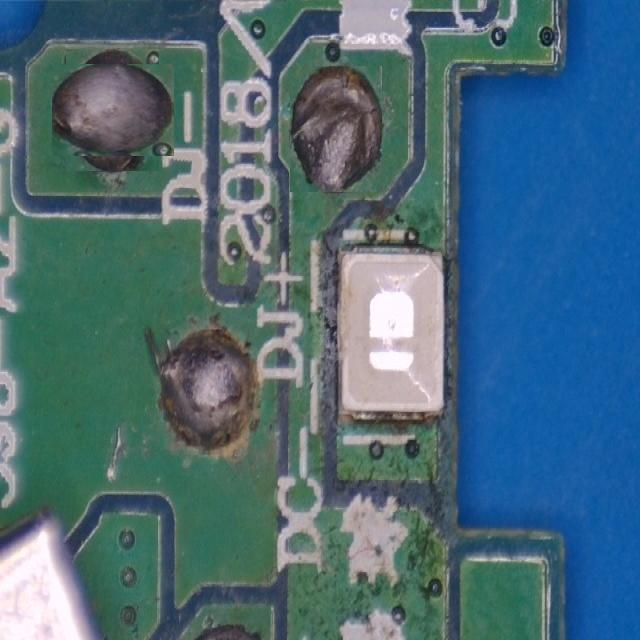Dry_joint: (291, 67, 382, 192), (163, 329, 254, 452), (52, 64, 173, 155)
